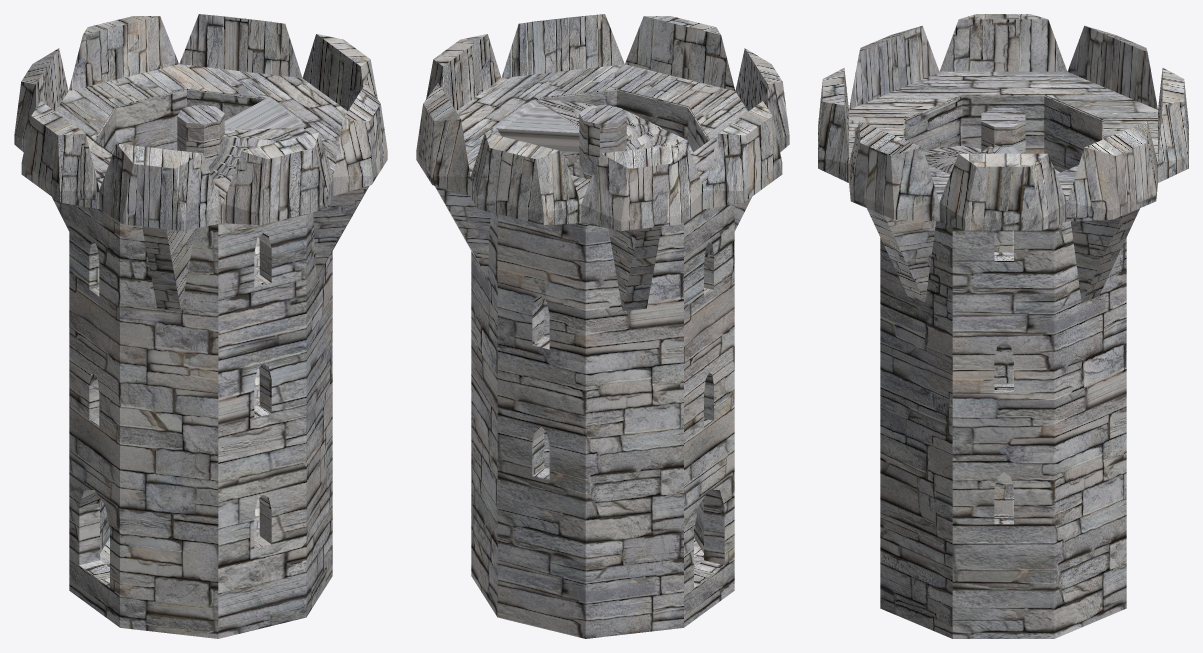
The model's file is tower.fbx.
3 renders of one model, left to right at view 1: azimuth 30°, elevation 25°; view 2: azimuth 150°, elevation 25°; view 3: azimuth 270°, elevation 25°, orthographic.
Parts seen in each view (by area): view 1: Cylinder.002, Cylinder.005, Cube.004, Cylinder, Cylinder.006; view 2: Cylinder.002, Cylinder.005, Cube.004, Cylinder.006, Cylinder; view 3: Cylinder.002, Cylinder.005, Cube.004, Cylinder.006, Cylinder.
Part boxes in pixels (x1=…): Cylinder.002: x1=69, y1=90, x2=332, y2=638; Cylinder.005: x1=14, y1=14, x2=387, y2=230; Cube.004: x1=52, y1=185, x2=369, y2=311; Cylinder: x1=208, y1=127, x2=306, y2=536; Cylinder.006: x1=177, y1=104, x2=224, y2=166; Cylinder.002: x1=471, y1=90, x2=734, y2=638; Cylinder.005: x1=416, y1=14, x2=789, y2=230; Cube.004: x1=434, y1=185, x2=751, y2=311; Cylinder.006: x1=579, y1=104, x2=626, y2=179; Cylinder: x1=536, y1=99, x2=692, y2=153; Cylinder.002: x1=880, y1=95, x2=1126, y2=638; Cylinder.005: x1=818, y1=14, x2=1188, y2=230; Cube.004: x1=867, y1=208, x2=1139, y2=302; Cylinder.006: x1=981, y1=108, x2=1025, y2=514; Cylinder: x1=924, y1=145, x2=1060, y2=174.
Bounding box in the file's own units: 1197 × 1784 × 1197.
